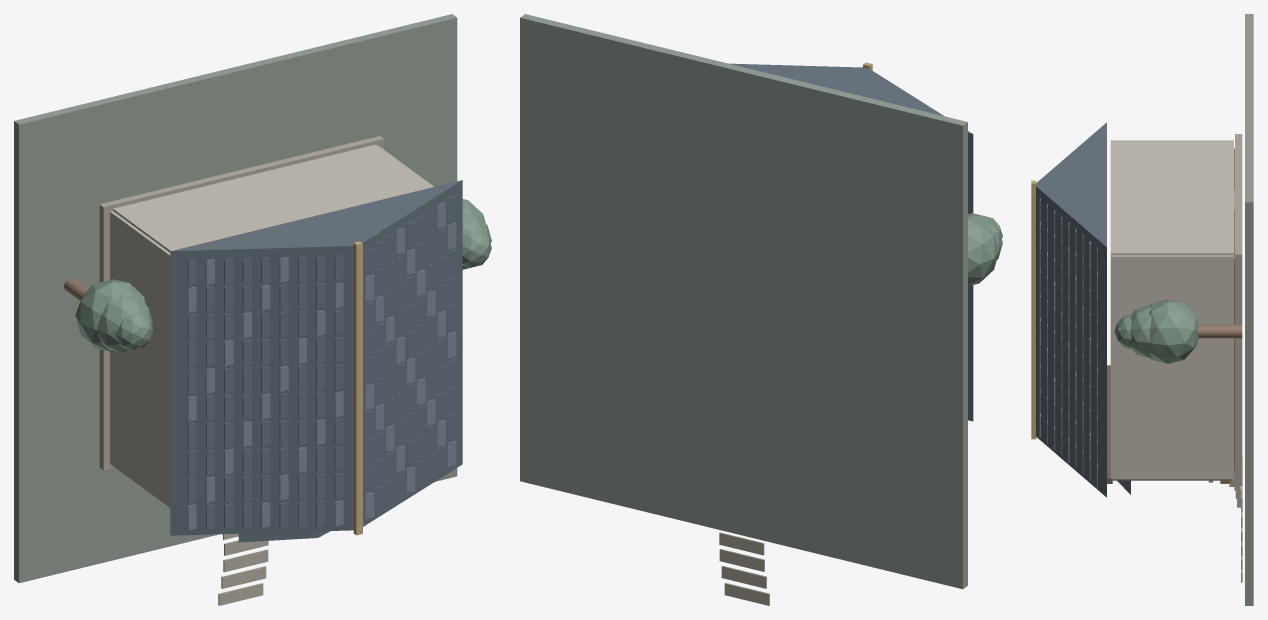
File: sReader_Magical_Library_House.glb
The picture shows the model from 3 angles, left to right: view 1: azimuth 30°, elevation 25°; view 2: azimuth 150°, elevation 25°; view 3: azimuth 270°, elevation 25°; orthographic projection. The views are drawn at different scales.
Parts seen in each view (by area): view 1: landscape_base, ROOF_HIDE_FOR_INTERIOR_main, rear_wall, wall_side_-4.45, stone_foundation, ROOF_HIDE_FOR_INTERIOR_ridge, tree_crown_-5.8_2.5, tree_crown_-5.8_3.1, tree_crown_-5.8_3.7, tree_crown_5.8_3.7, porch_gable; view 2: landscape_base, ROOF_HIDE_FOR_INTERIOR_main, tree_crown_-5.8_2.5; view 3: wall_side_4.45, ROOF_HIDE_FOR_INTERIOR_main, rear_wall, landscape_base, stone_foundation, tree_crown_5.8_2.5, ROOF_HIDE_FOR_INTERIOR_ridge, tree_crown_5.8_3.1, tree_trunk_5.8, front_wood_beam, tree_crown_5.8_3.7.
Part boxes in pixels (left/top/right/bottom): landscape_base: left=14, top=14, right=457, bottom=583; ROOF_HIDE_FOR_INTERIOR_main: left=170, top=180, right=462, bottom=535; rear_wall: left=113, top=144, right=433, bottom=252; wall_side_-4.45: left=110, top=211, right=170, bottom=507; stone_foundation: left=99, top=136, right=383, bottom=470; ROOF_HIDE_FOR_INTERIOR_ridge: left=353, top=241, right=362, bottom=535; tree_crown_-5.8_2.5: left=75, top=279, right=146, bottom=351; tree_crown_-5.8_3.1: left=96, top=295, right=152, bottom=352; tree_crown_-5.8_3.7: left=115, top=312, right=152, bottom=350; tree_crown_5.8_3.7: left=462, top=230, right=491, bottom=267; porch_gable: left=238, top=531, right=330, bottom=542; landscape_base: left=520, top=14, right=967, bottom=589; ROOF_HIDE_FOR_INTERIOR_main: left=729, top=63, right=973, bottom=421; tree_crown_-5.8_2.5: left=968, top=215, right=999, bottom=285; wall_side_4.45: left=1110, top=255, right=1233, bottom=478; ROOF_HIDE_FOR_INTERIOR_main: left=1036, top=122, right=1106, bottom=497; rear_wall: left=1110, top=140, right=1233, bottom=255; landscape_base: left=1245, top=14, right=1253, bottom=605; stone_foundation: left=1235, top=134, right=1242, bottom=485; tree_crown_5.8_2.5: left=1149, top=299, right=1198, bottom=363; ROOF_HIDE_FOR_INTERIOR_ridge: left=1031, top=180, right=1036, bottom=439; tree_crown_5.8_3.1: left=1130, top=305, right=1151, bottom=357; tree_trunk_5.8: left=1198, top=325, right=1242, bottom=338; front_wood_beam: left=1107, top=365, right=1112, bottom=483; tree_crown_5.8_3.7: left=1114, top=314, right=1131, bottom=348.
Size of the model in its own units: 15 by 17.27 by 7.5.
